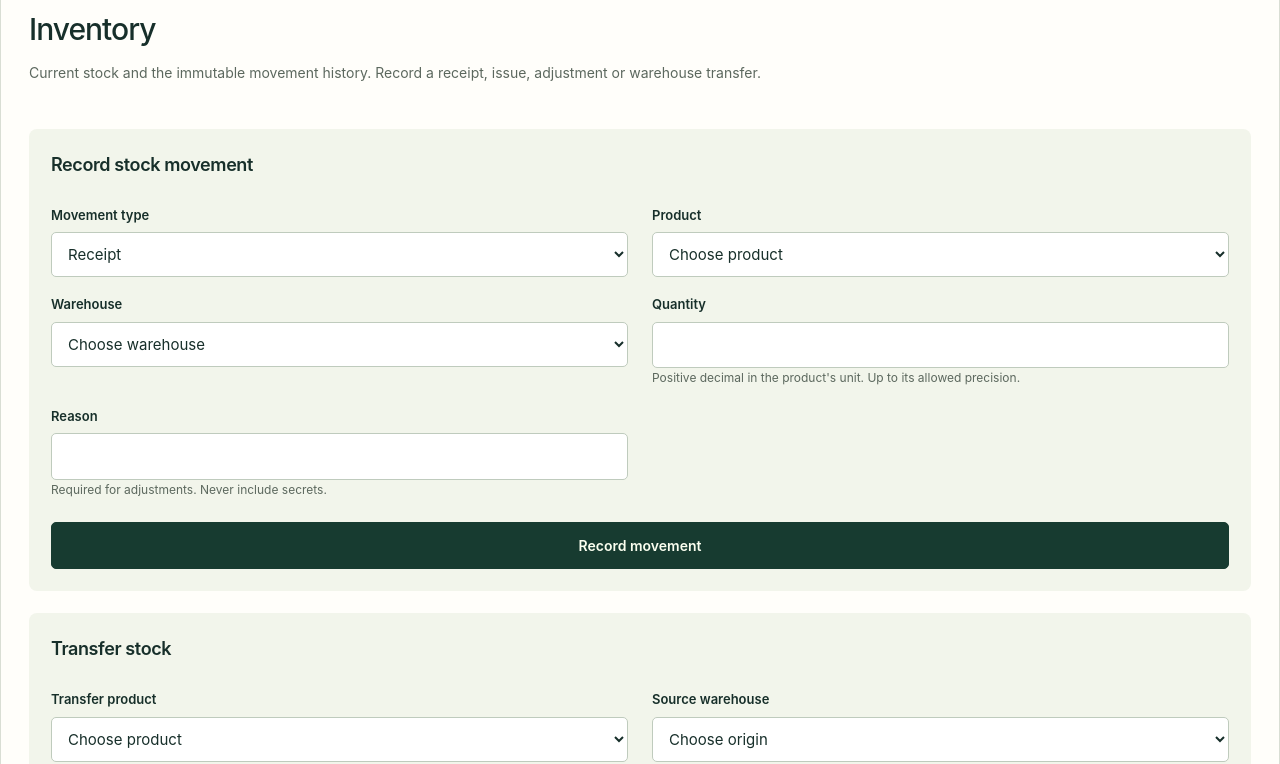
Test: checks source availability, rejects equal warehouses and retries one transfer intent
Select "RICE · Rice (KG)" in the dropdown labelled "Transfer product" at (340, 739), box [51,717,628,762]
Select "MAIN · Main" in the dropdown labelled "Source warehouse" at (940, 739), box [652,717,1229,762]
(page scrolled)
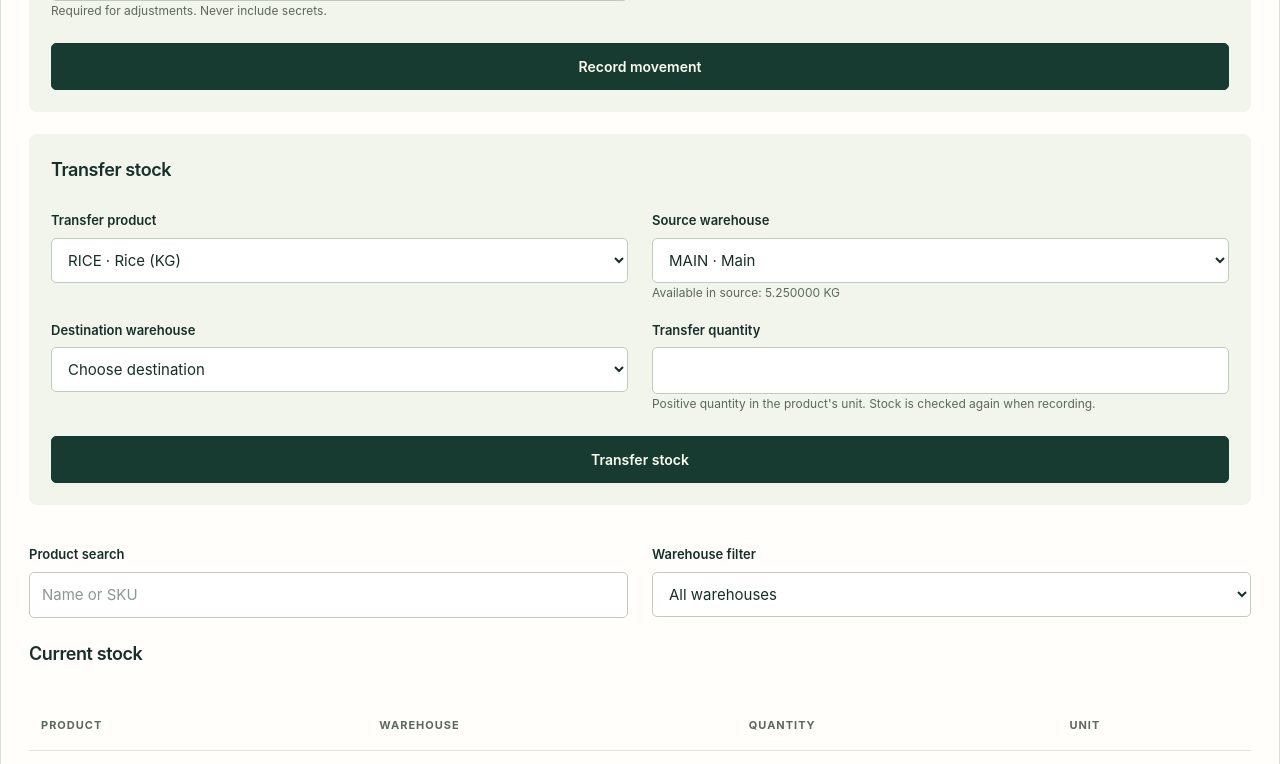
expect the text "Available in source: 5.250000 KG" is shown: met, box [652,285,840,300]
Select "MAIN · Main" in the dropdown labelled "Destination warehouse" at (340, 370), box [51,348,628,392]
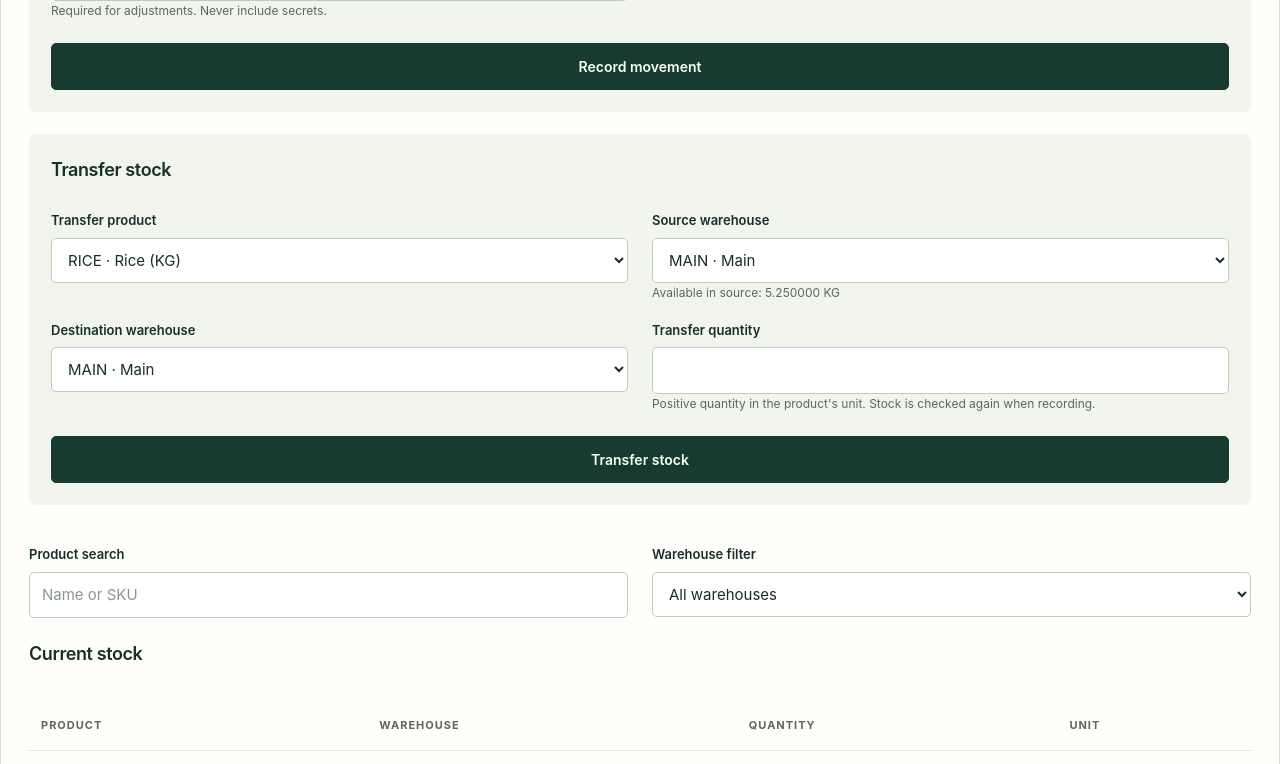
Type "1.250" into the field labelled "Transfer quantity" at (940, 371), box [652,348,1229,394]
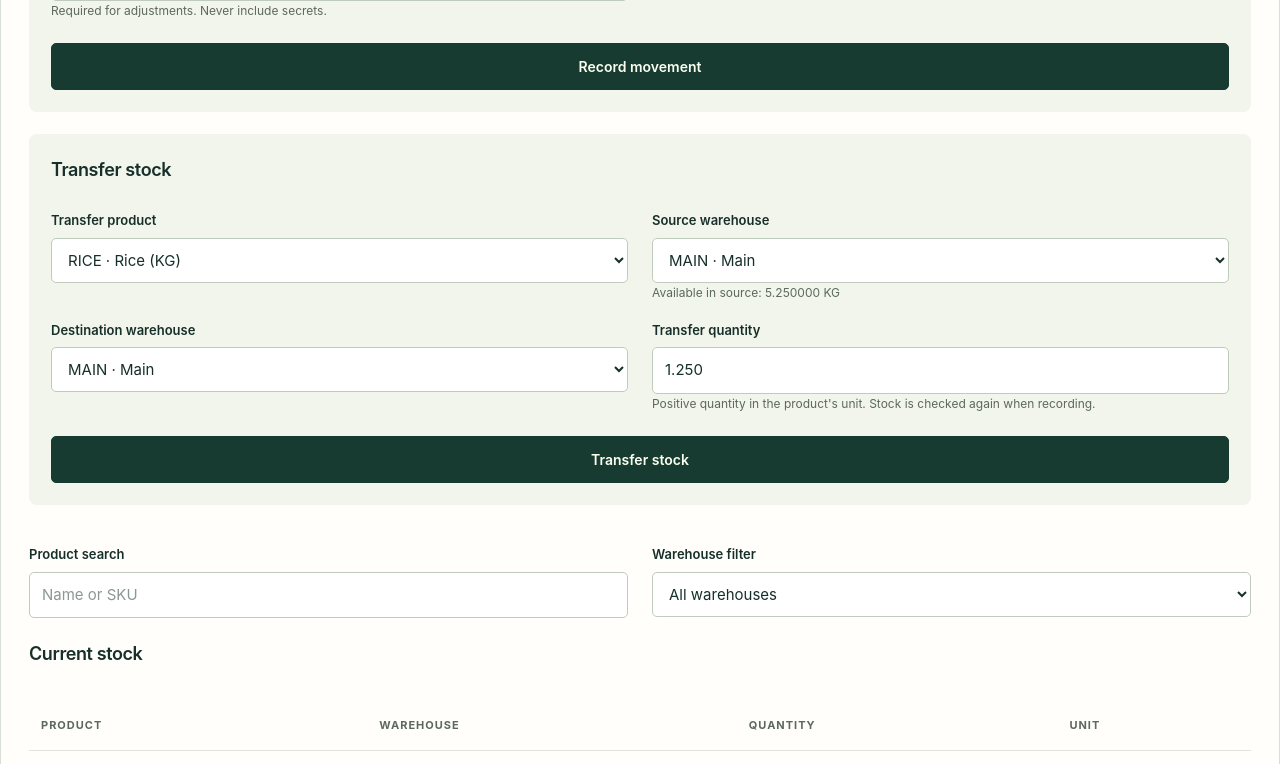
Submit the form "Transfer stock", box [29,134,1251,505]
(page scrolled)
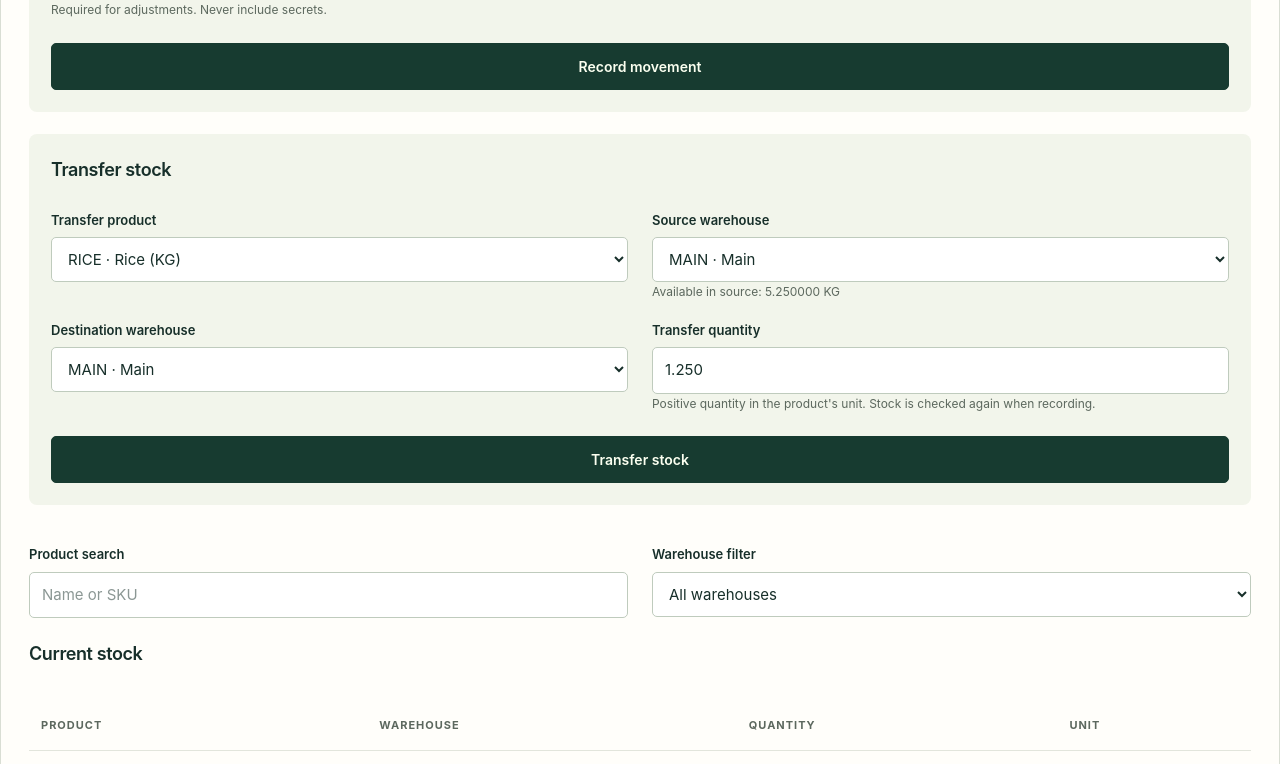
Select "SECOND · Second" in the dropdown labelled "Destination warehouse" at (340, 370), box [51,347,628,392]
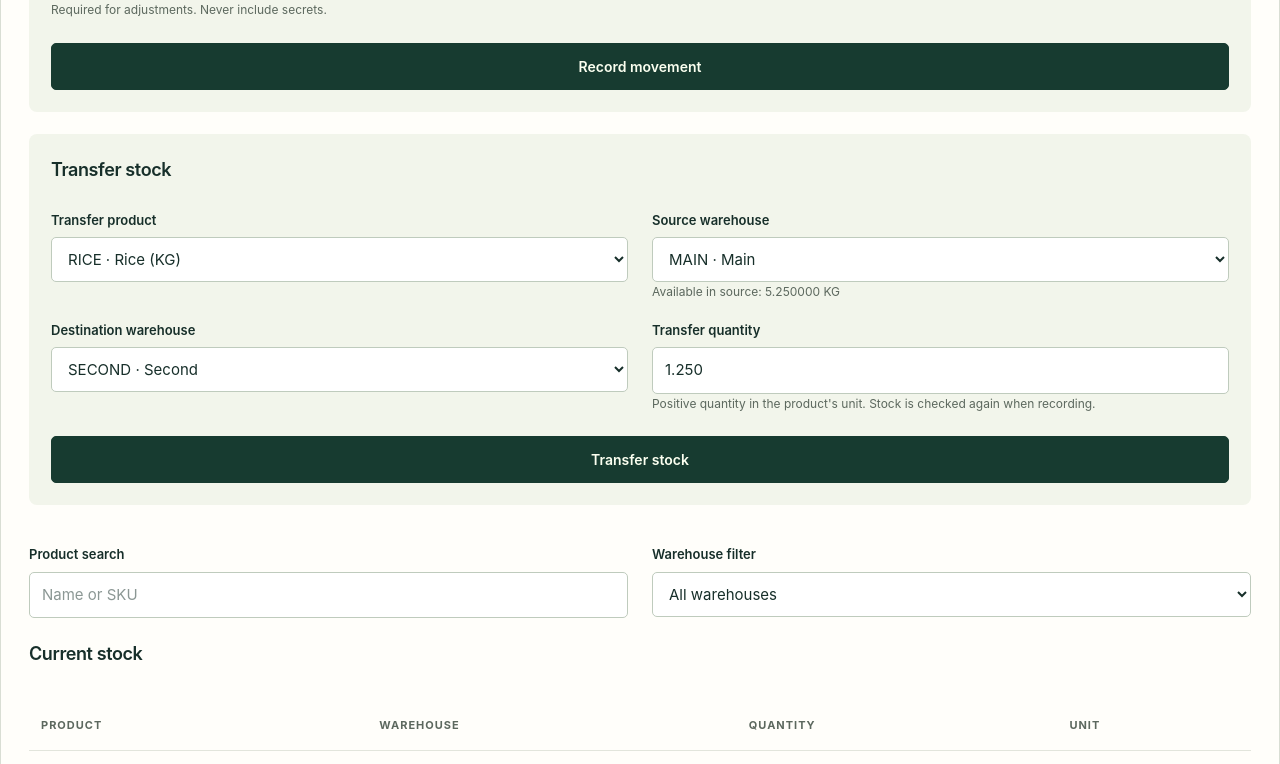
Submit the form "Transfer stock", box [29,134,1251,505]
Submit the form "Transfer stock", box [29,134,1251,505]
(page scrolled)
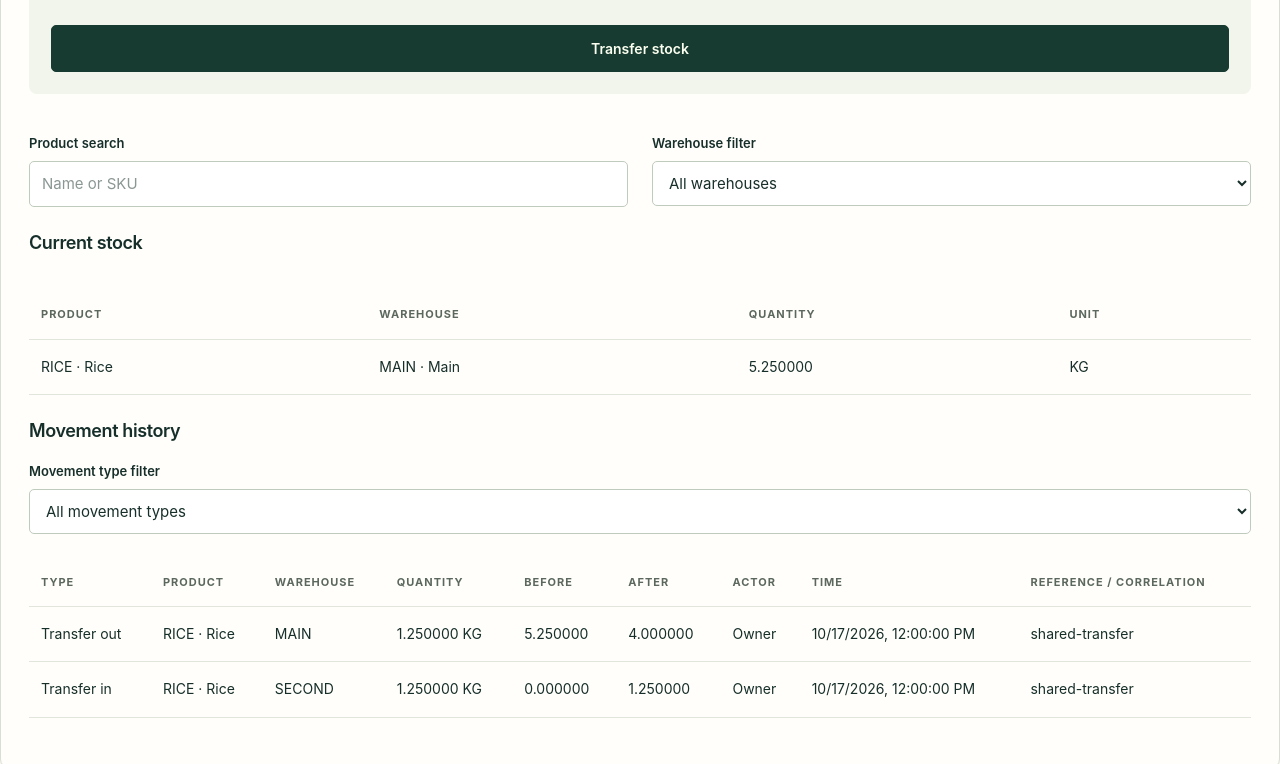
expect the text "shared-transfer" is shown 2 times: met, box [1018,606,1251,662]; [1018,662,1251,717]
expect the text "Transfer out" is shown: met, box [29,606,151,662]
expect the text "Transfer in" is shown: met, box [29,662,151,717]
